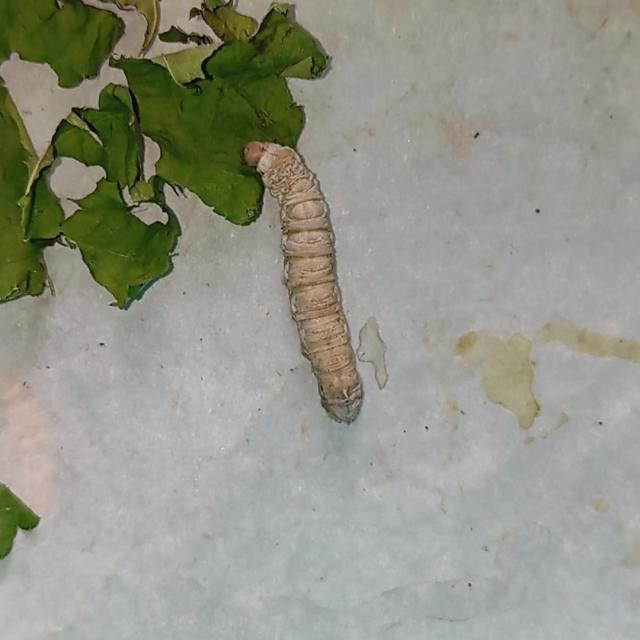Grasserie: (222, 123, 428, 442)
